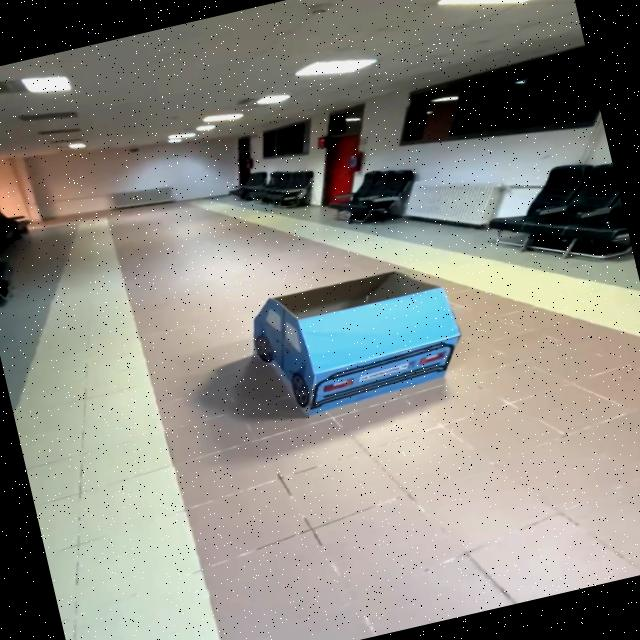blue_car: (217, 246, 489, 443)
